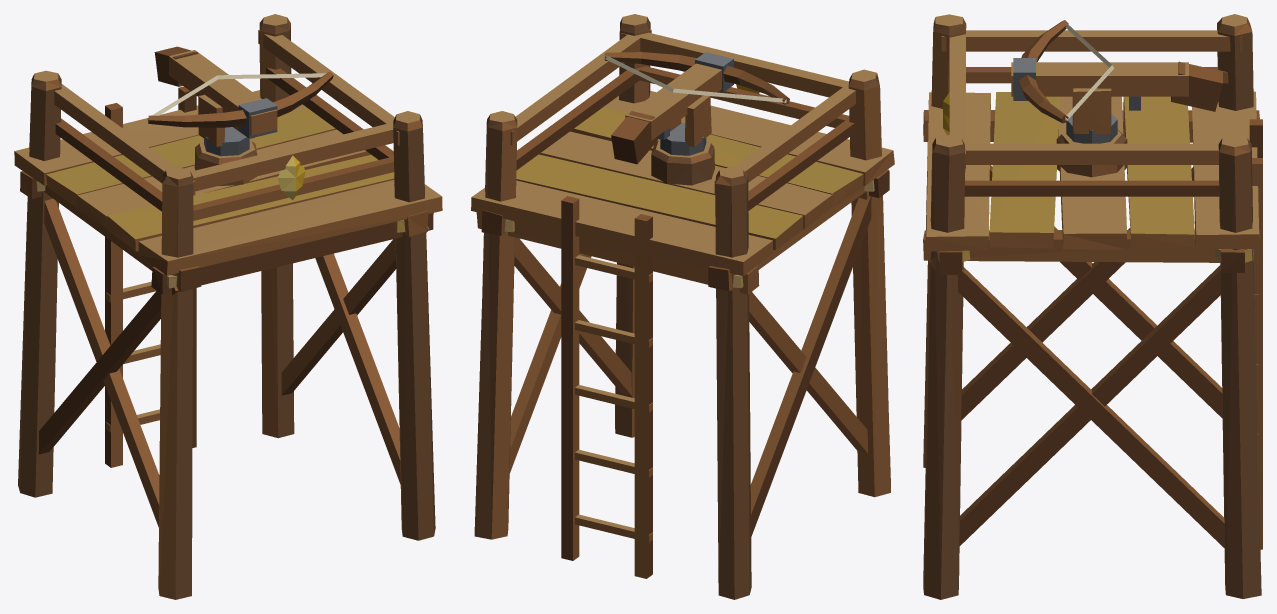
The model's file is acorn_tower_1.glb.
3 renders of one model, left to right at view 1: azimuth 30°, elevation 25°; view 2: azimuth 150°, elevation 25°; view 3: azimuth 270°, elevation 25°, orthographic. The views are drawn at different scales.
Parts seen in each view (by area): view 1: acorn_tower_1, turret, bow_string; view 2: acorn_tower_1, turret, bow_string; view 3: acorn_tower_1, turret, bow_string.
Boxes of the visible parts, left/top/right/bottom form: acorn_tower_1: left=14, top=14, right=442, bottom=599; turret: left=148, top=46, right=333, bottom=156; bow_string: left=147, top=73, right=326, bottom=120; acorn_tower_1: left=471, top=14, right=894, bottom=599; turret: left=604, top=52, right=789, bottom=164; bow_string: left=603, top=55, right=786, bottom=102; acorn_tower_1: left=923, top=14, right=1262, bottom=599; turret: left=1011, top=20, right=1222, bottom=143; bow_string: left=1065, top=23, right=1114, bottom=120.
Bounding box in the file's own units: 1.28 × 1.89 × 1.26.
